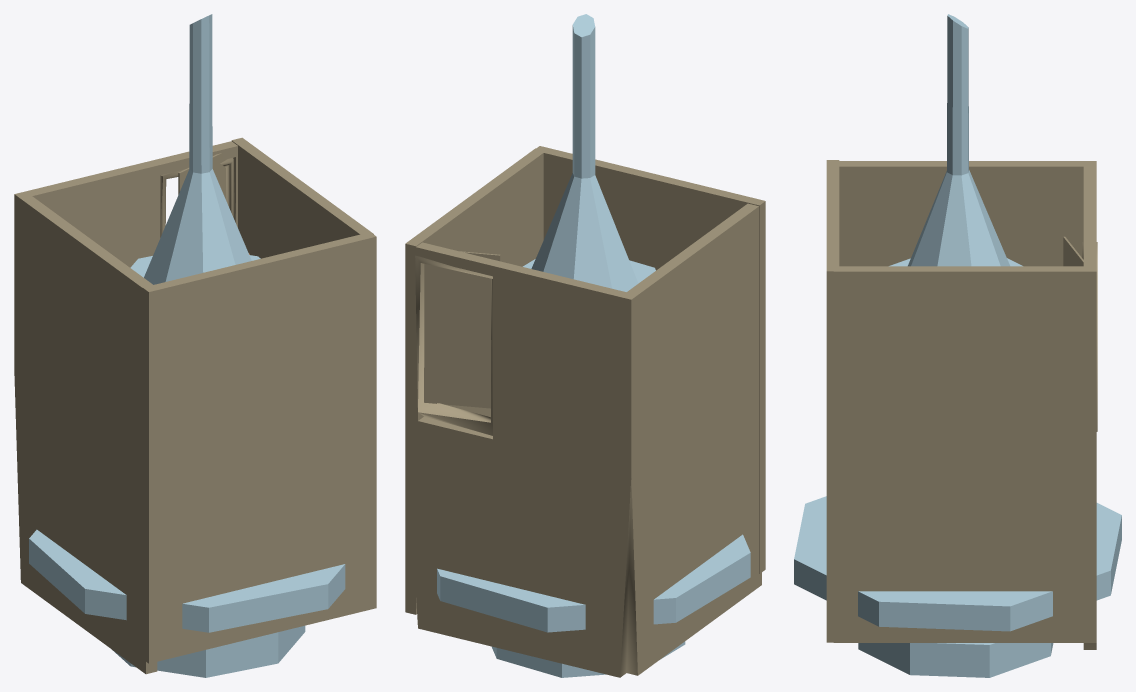
Rendered from Level6.fbx.
3 renders of one model, left to right at view 1: azimuth 30°, elevation 25°; view 2: azimuth 150°, elevation 25°; view 3: azimuth 270°, elevation 25°, orthographic.
Visible parts, largest first — view 1: Cube.034, Cube.002, Cylinder, Cube.003, Cube.022; view 2: Cube.002, Cube.034, Cylinder, Cube.022, Cube.003; view 3: Cube.034, Cylinder, Cube.002.
Part boxes in pixels (x1,y1,x2,y2): Cube.034: (142, 137, 376, 663); Cube.002: (14, 141, 237, 674); Cylinder: (29, 14, 345, 677); Cube.003: (160, 158, 235, 237); Cube.022: (178, 153, 226, 199); Cube.002: (405, 203, 761, 677); Cube.034: (405, 146, 765, 614); Cylinder: (437, 14, 750, 677); Cube.022: (424, 251, 500, 408); Cube.003: (415, 255, 493, 435); Cube.034: (826, 160, 1096, 642); Cylinder: (794, 14, 1121, 677); Cube.002: (839, 161, 1096, 649).
Bounding box in the file's own units: 16.47 × 34.47 × 16.47.
